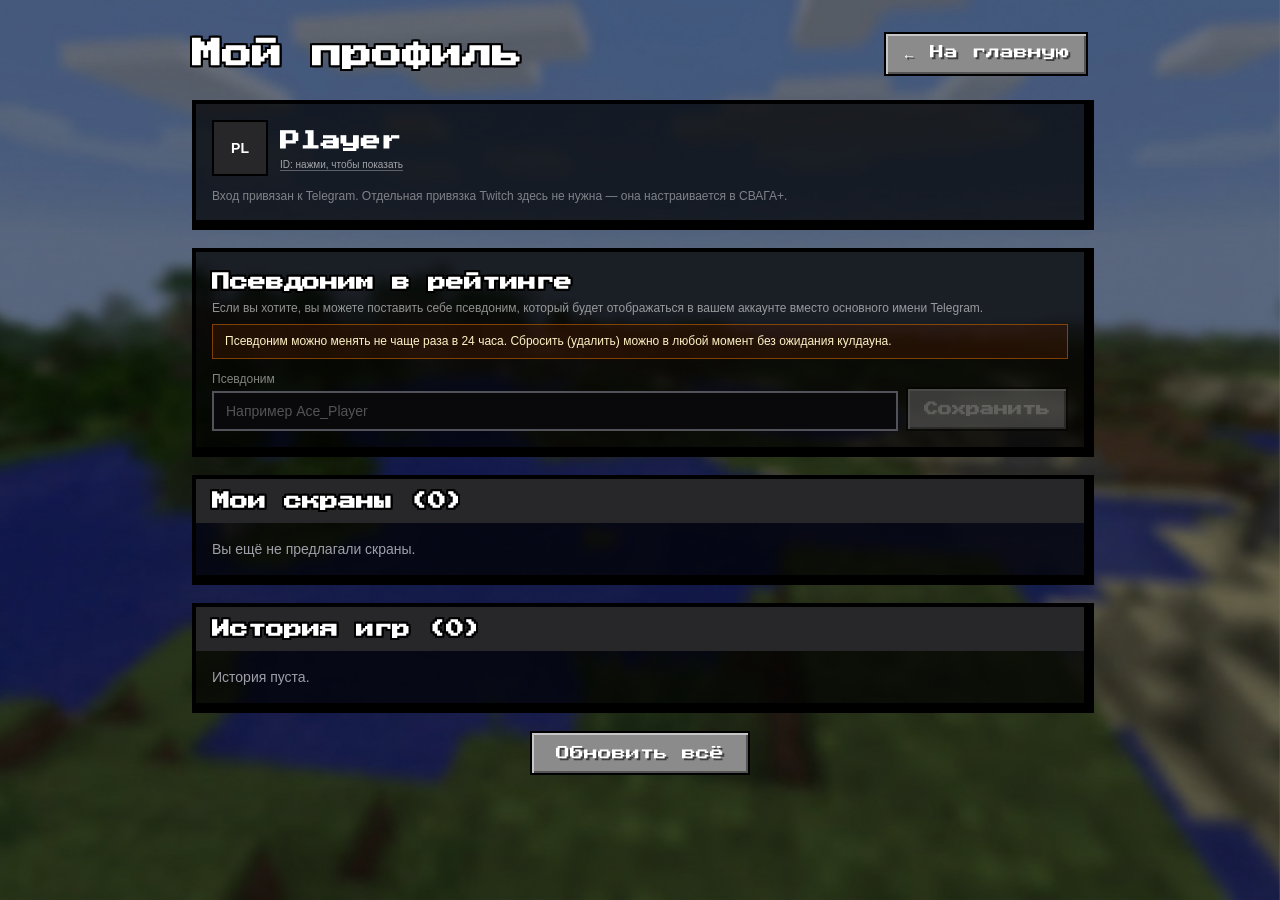
ProfilePage Telegram ID › hides the Telegram ID until its button is clicked
Expected: the heading "Мой профиль" is shown, x1=192 y1=36 x2=522 y2=72
Expected: the text "ID: 123456789" is not shown
Click the button "ID: нажми, чтобы показать". click: point(342, 165)
box: x1=280 y1=159 x2=403 y2=171
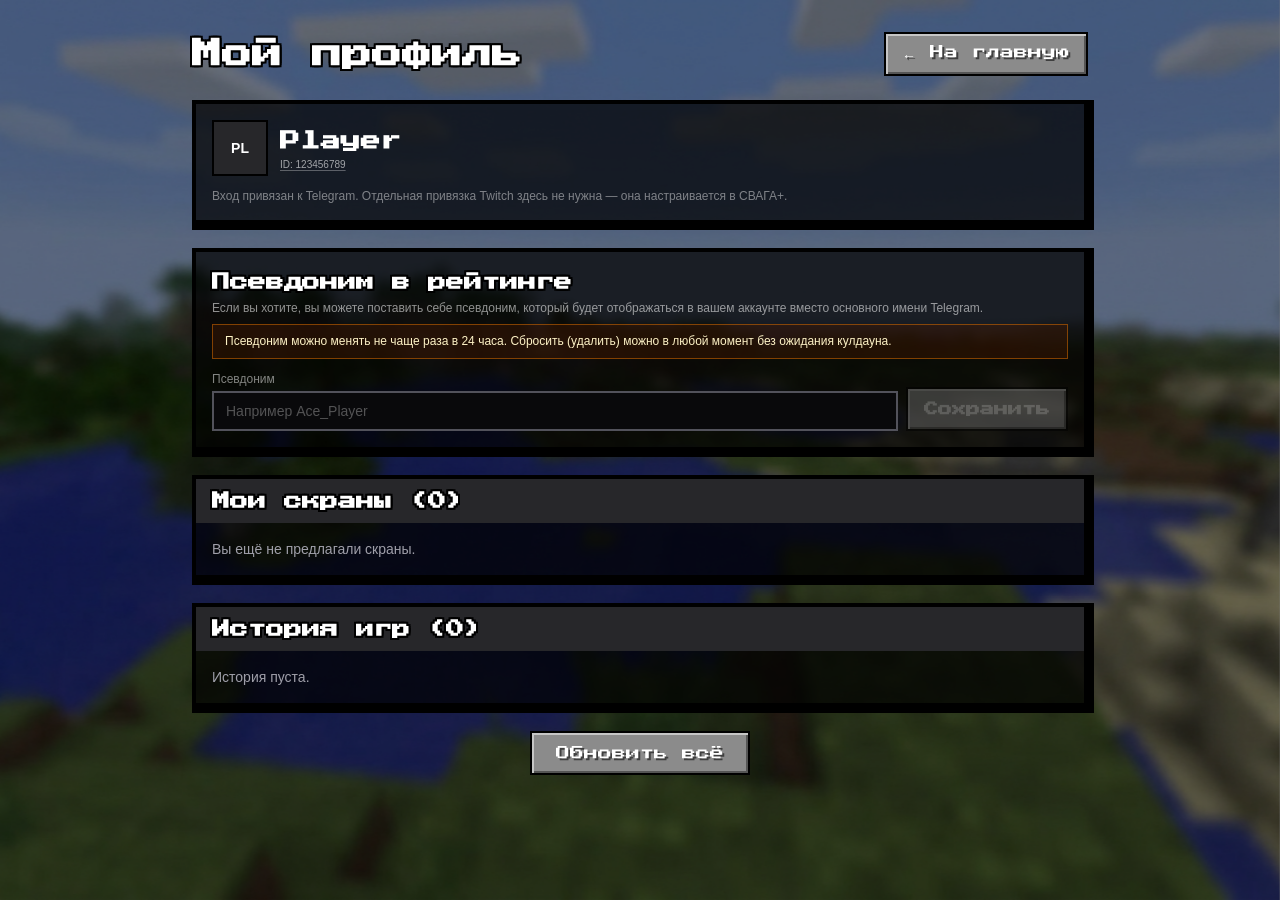
Expected: the button "ID: 123456789" is shown
Click the button "ID: 123456789". click: point(313, 165)
box: x1=280 y1=159 x2=346 y2=171
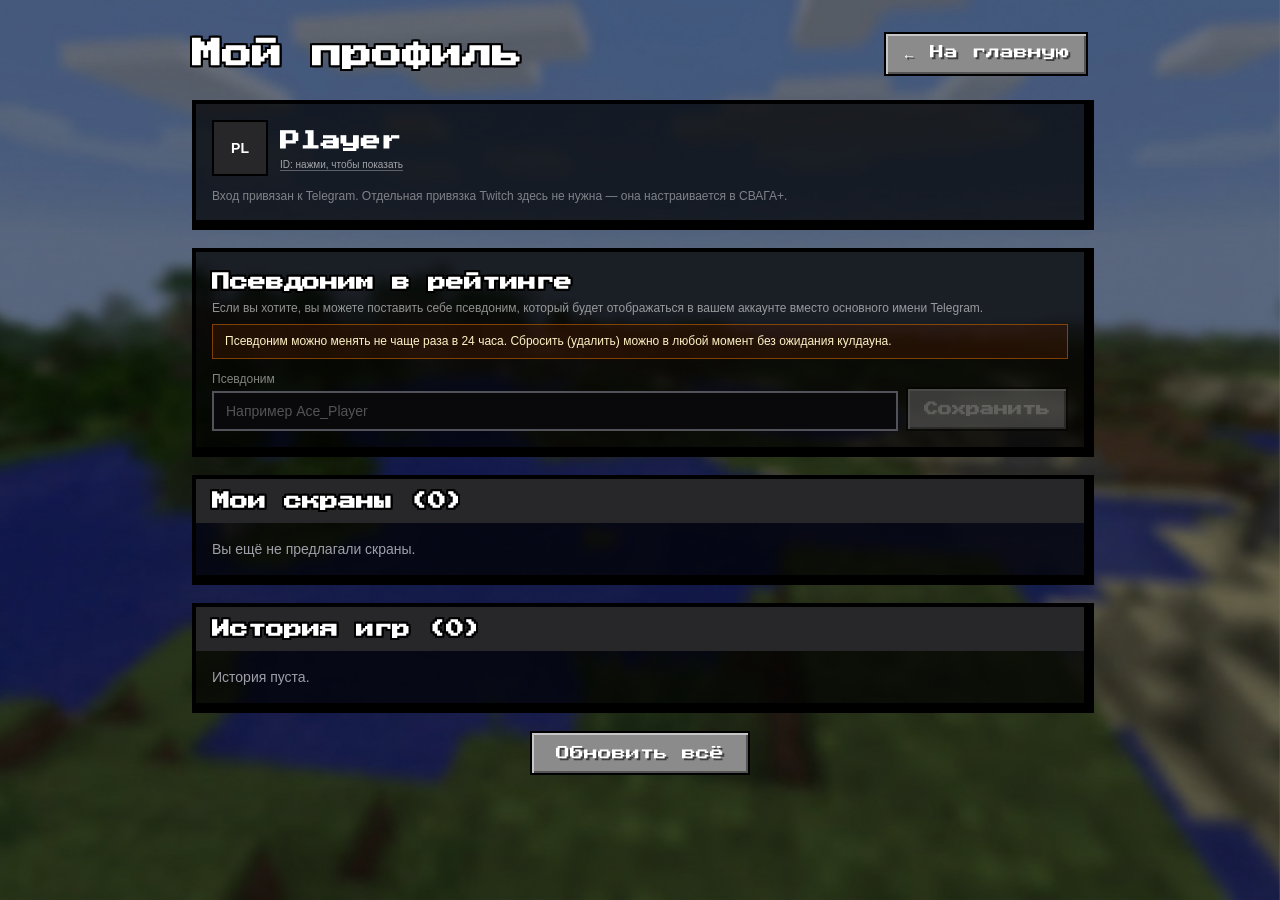
Expected: the button "ID: нажми, чтобы показать" is shown, x1=280 y1=159 x2=403 y2=171
